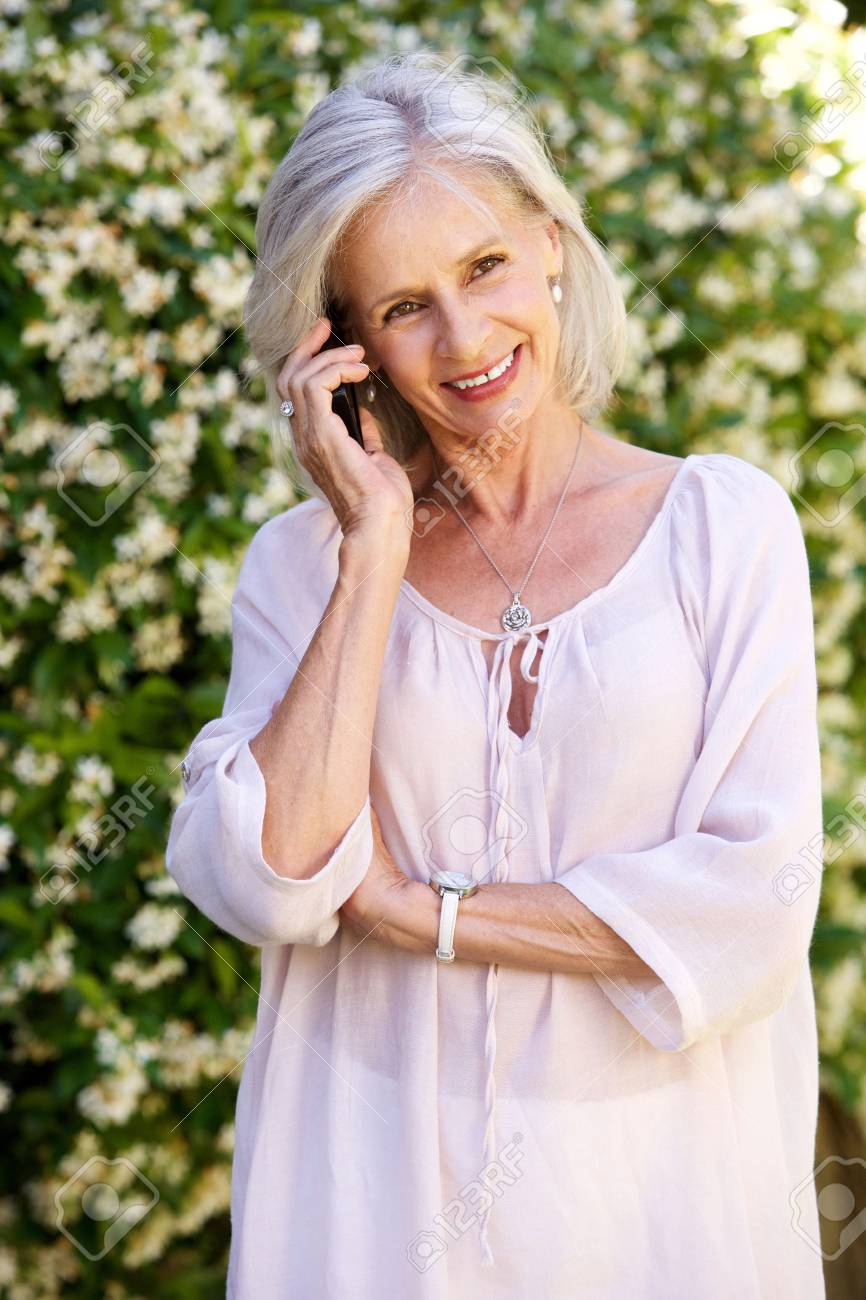phone: (277, 312, 400, 470)
talk: (260, 222, 578, 547)
